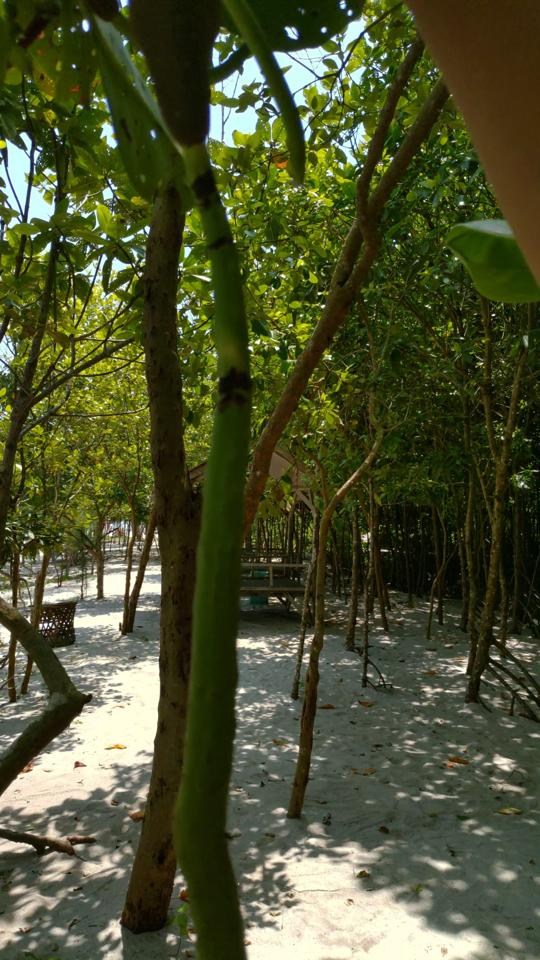setengah matang: (119, 1, 265, 959)
